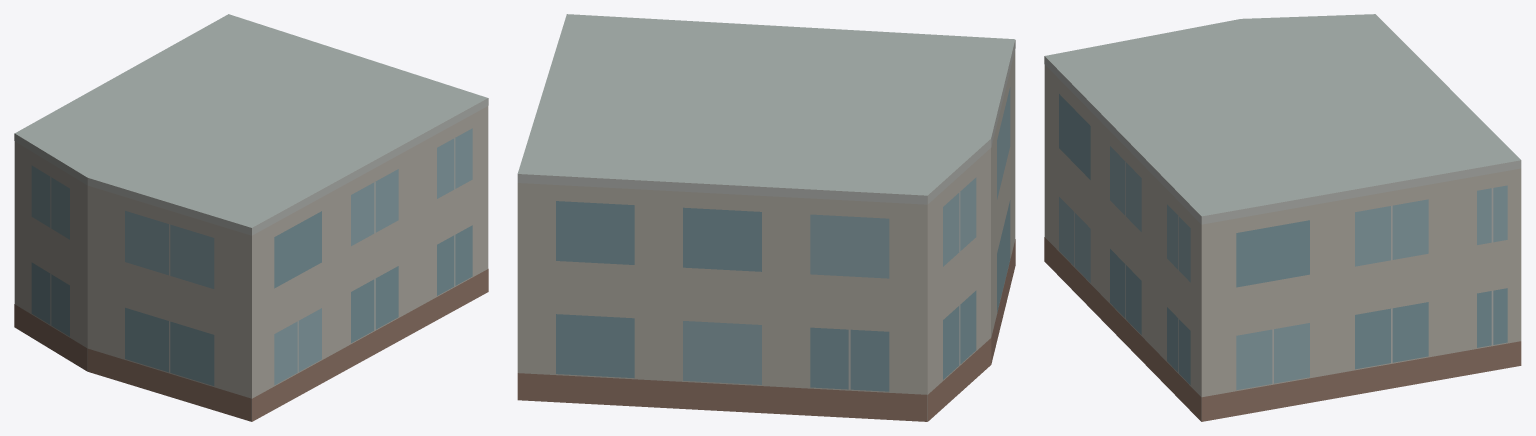
File: survey-upis-32866196.glb
3 renders of one model, left to right at view 1: azimuth 30°, elevation 25°; view 2: azimuth 150°, elevation 25°; view 3: azimuth 270°, elevation 25°, orthographic. The views are drawn at different scales.
Visible parts, largest first — view 1: survey-upis-32866196.tmp; view 2: survey-upis-32866196.tmp; view 3: survey-upis-32866196.tmp.
Part boxes in pixels (box(x1,y1,x2,y2)): survey-upis-32866196.tmp: box(14, 14, 488, 421); survey-upis-32866196.tmp: box(517, 14, 1015, 421); survey-upis-32866196.tmp: box(1044, 14, 1521, 421).
Size of the model in its own units: 12.9 by 6.1 by 12.84.
